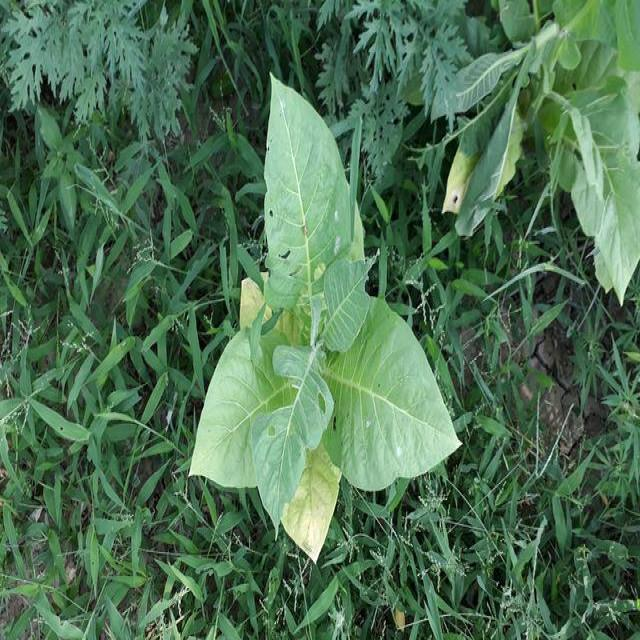crop: (195, 78, 458, 557), (446, 5, 640, 303)
